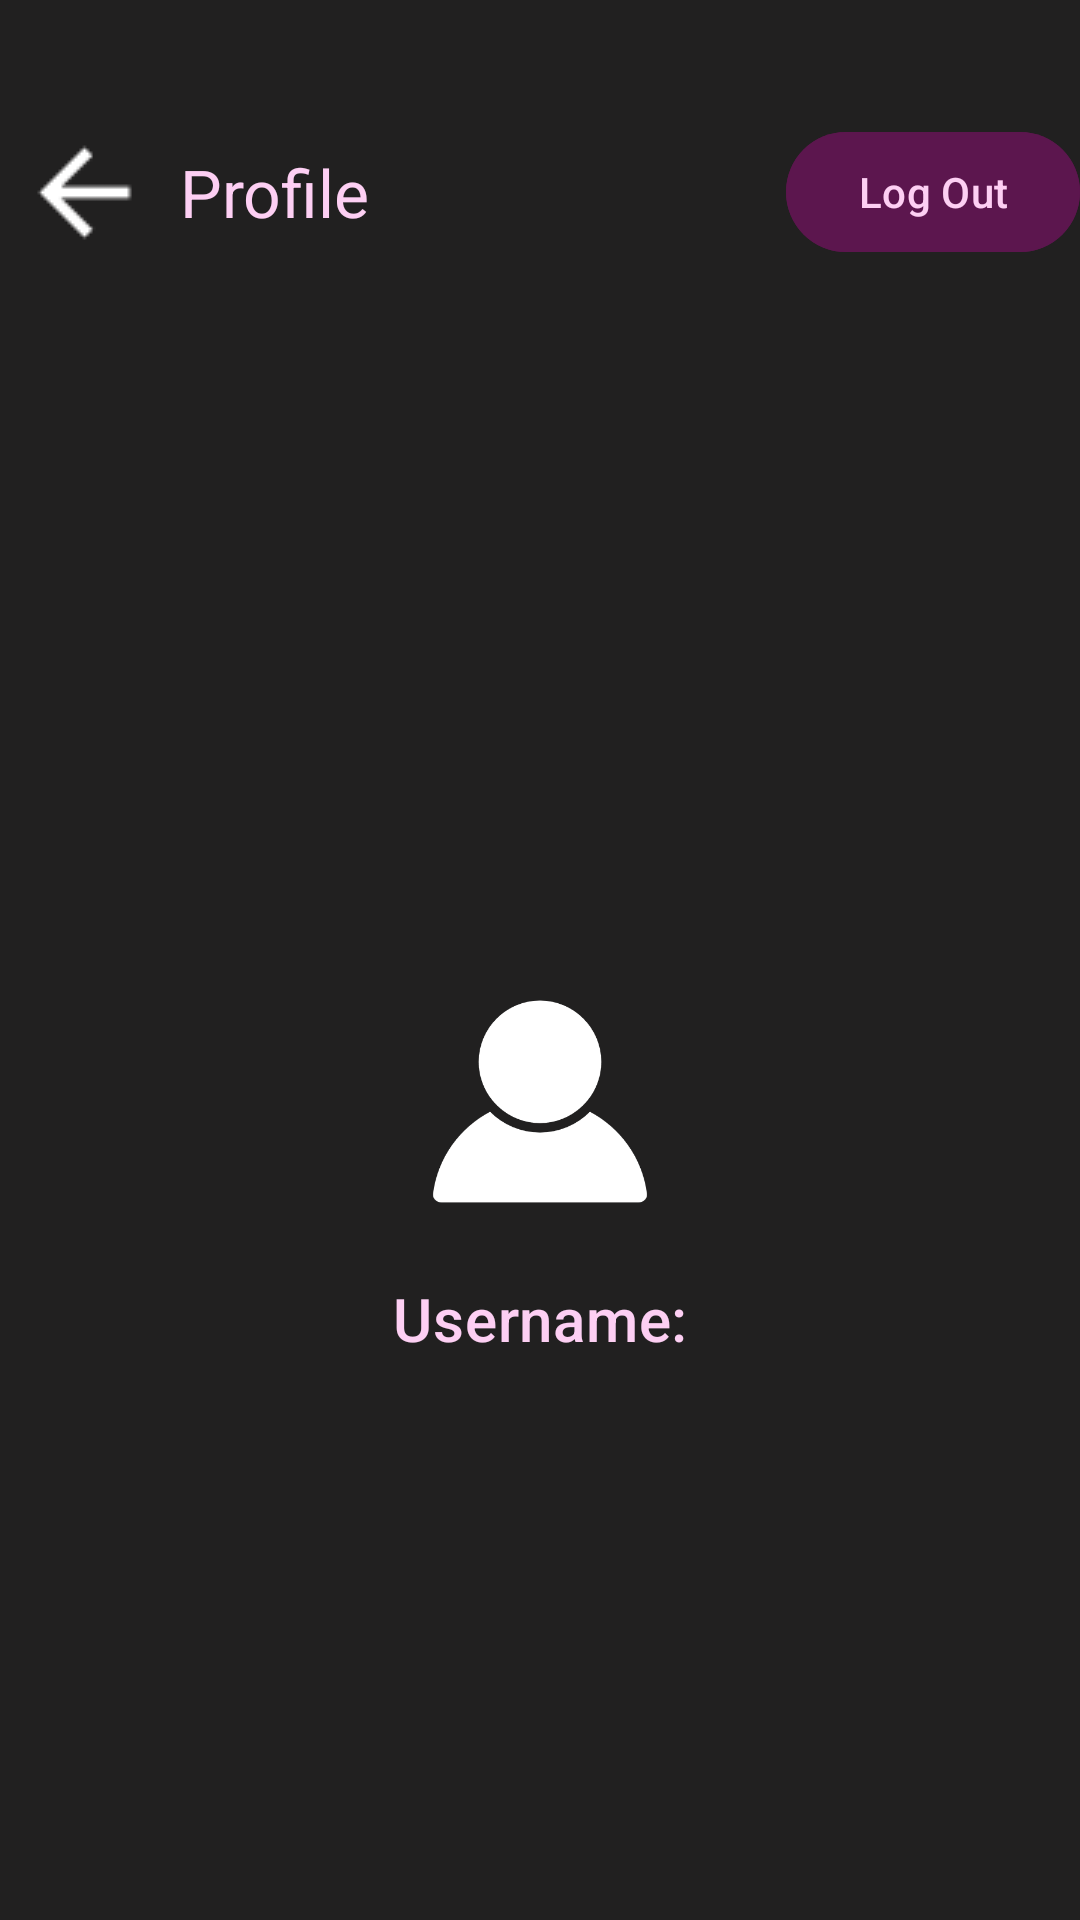

Icon bounding boxes for this 1080w x 1920h phone screenshot, format (left=x1, top=y1, right=x2, bottom=y2):
profile: (left=433, top=1000, right=647, bottom=1203)
